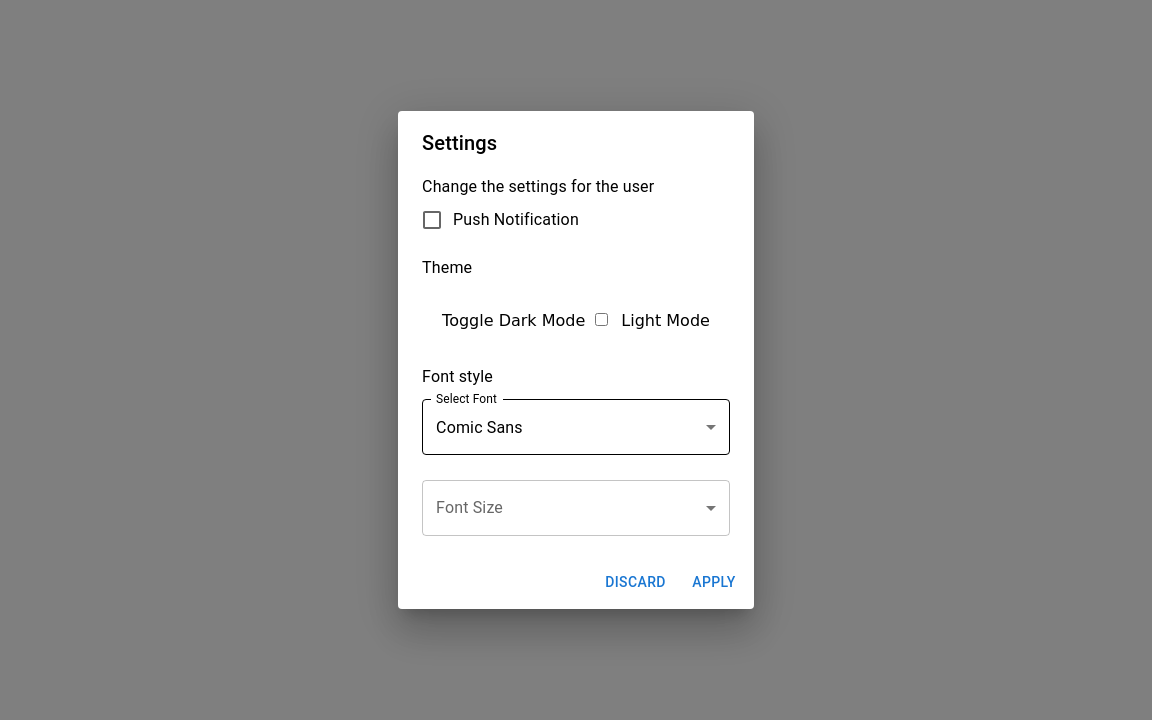
SettingsDialog › font dropdown shows up
The width and height of the screenshot is (1152, 720).
# Click to open dropdown
Press the mouse on the dropdown named "select font" at (479, 427), box [436,418,523,437]
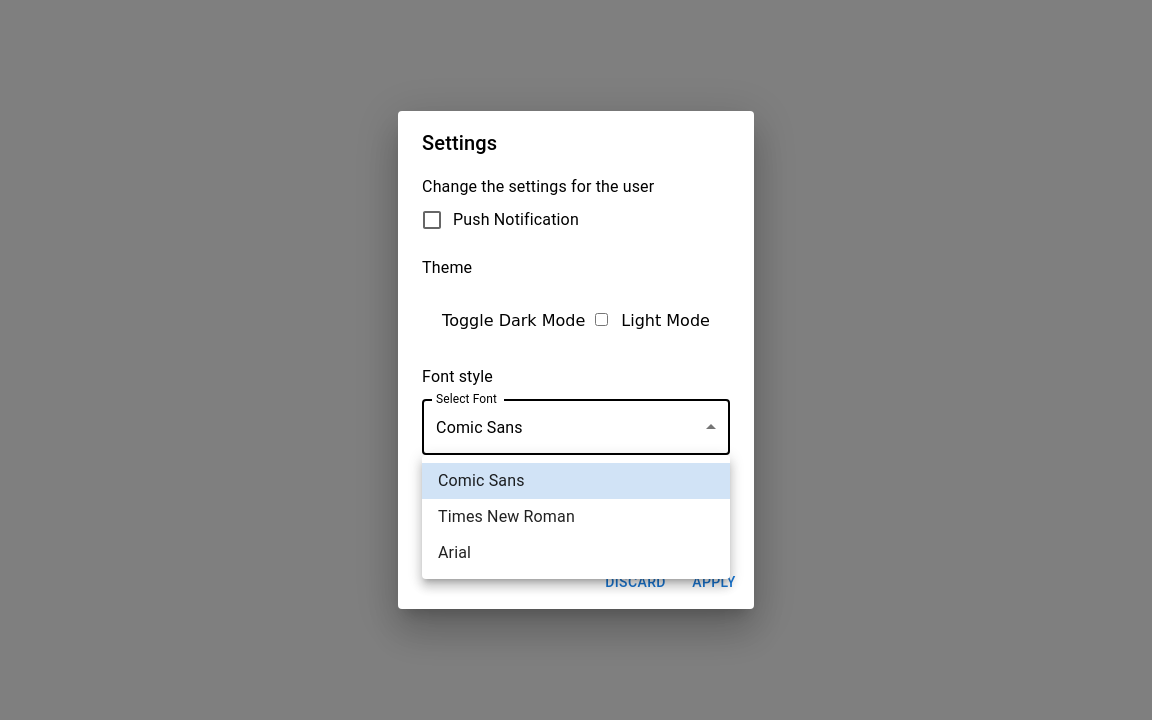
Expected: the option "Times New Roman" is shown, [422,499,730,535]
Expected: the option "Arial" is shown, [422,535,730,571]
